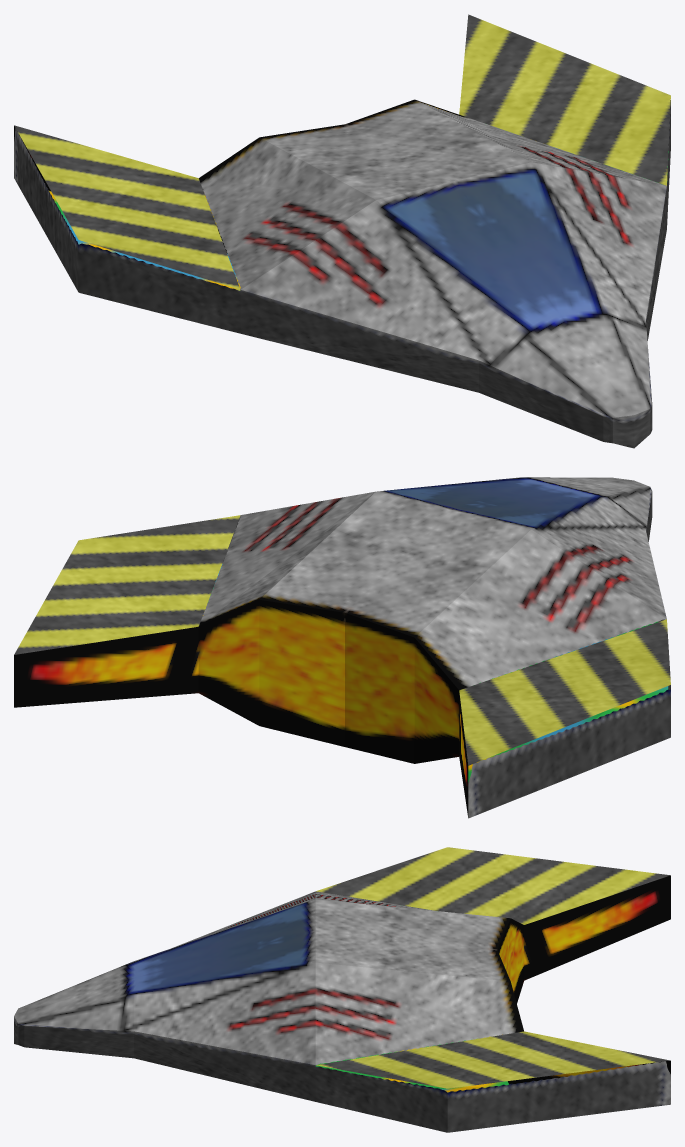
The model's file is ship.fbx.
3 views of the same model, one above another, from view 1: azimuth 30°, elevation 25°; view 2: azimuth 150°, elevation 25°; view 3: azimuth 270°, elevation 25° (orthographic). The views are drawn at different scales.
Parts seen in each view (by area): view 1: ship; view 2: ship; view 3: ship.
Part boxes in pixels (x1=…): ship: x1=14, y1=14, x2=670, y2=448; ship: x1=14, y1=477, x2=670, y2=818; ship: x1=14, y1=847, x2=670, y2=1132.
Bounding box in the file's own units: 130 × 32.81 × 149.
